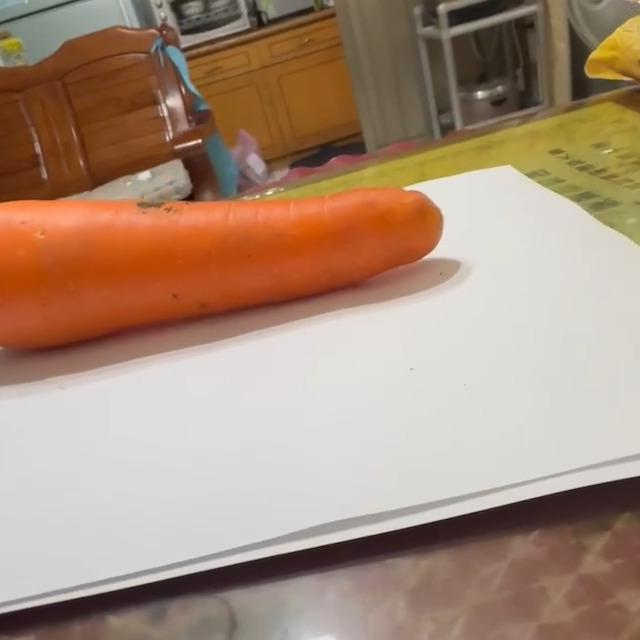carrot: (1, 185, 446, 355)
